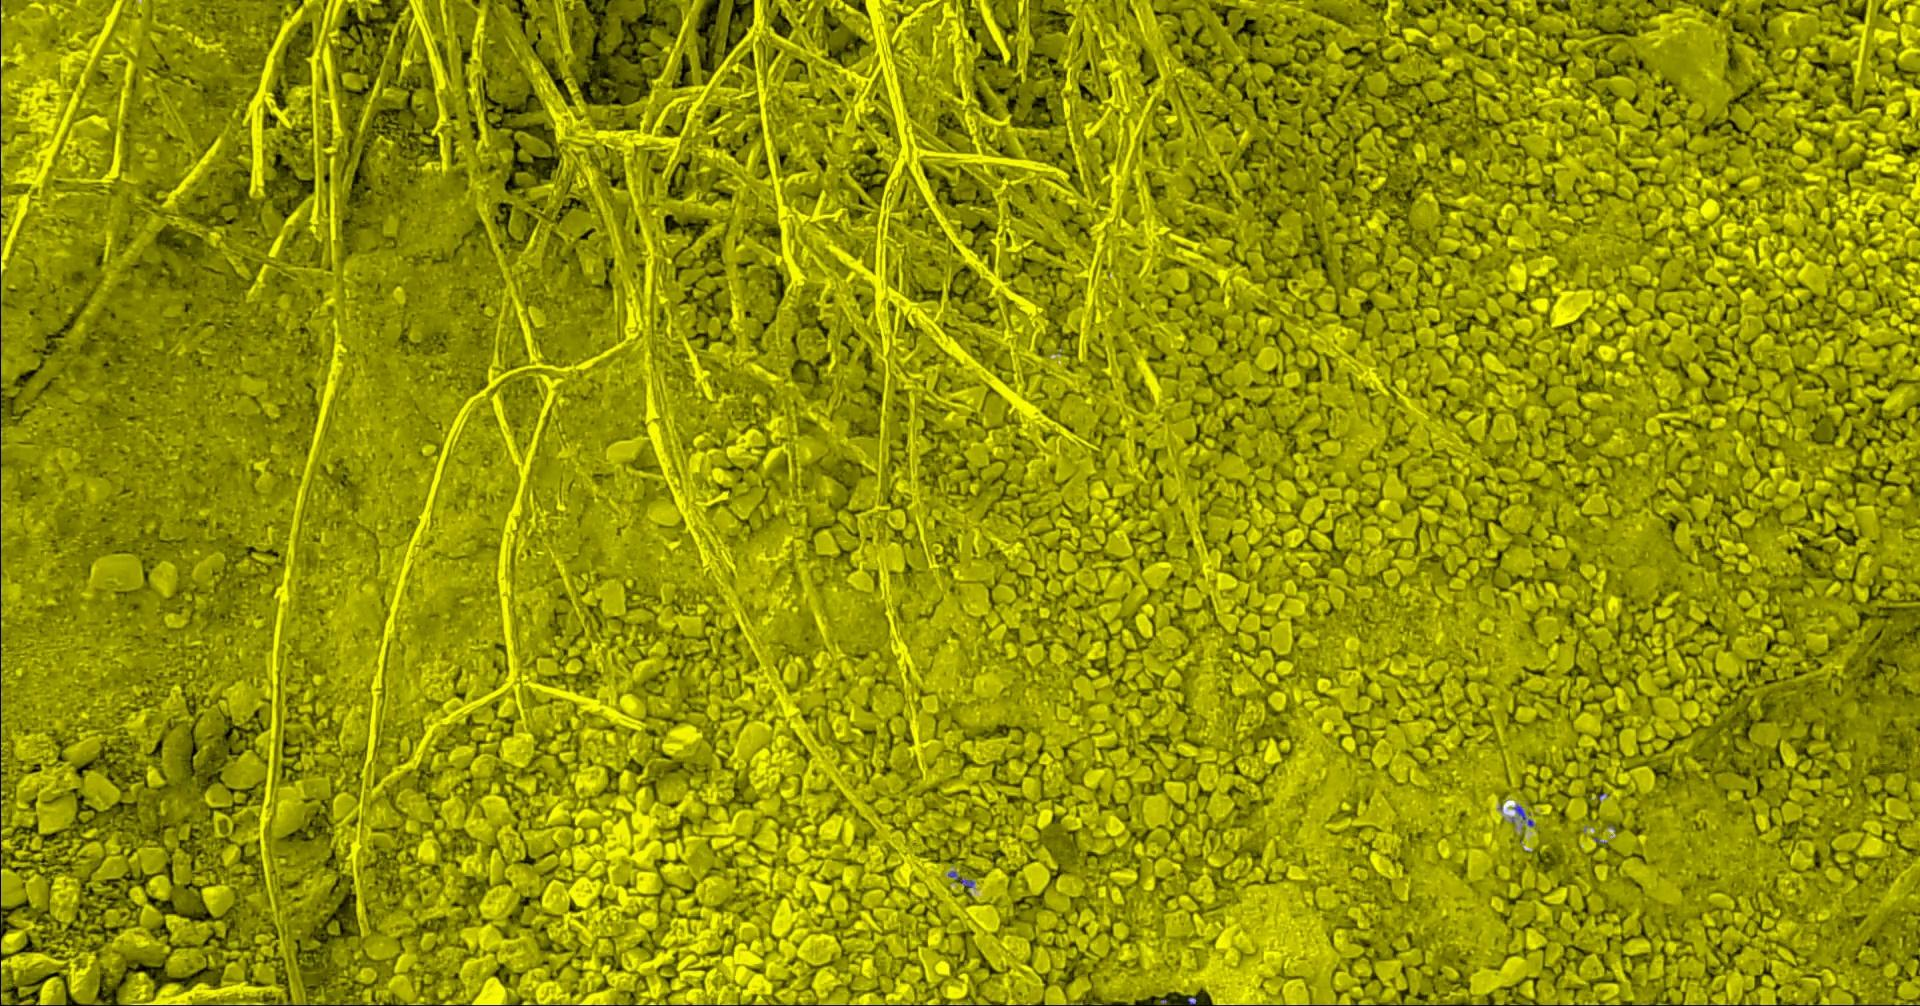ant: (1512, 804, 1533, 826)
